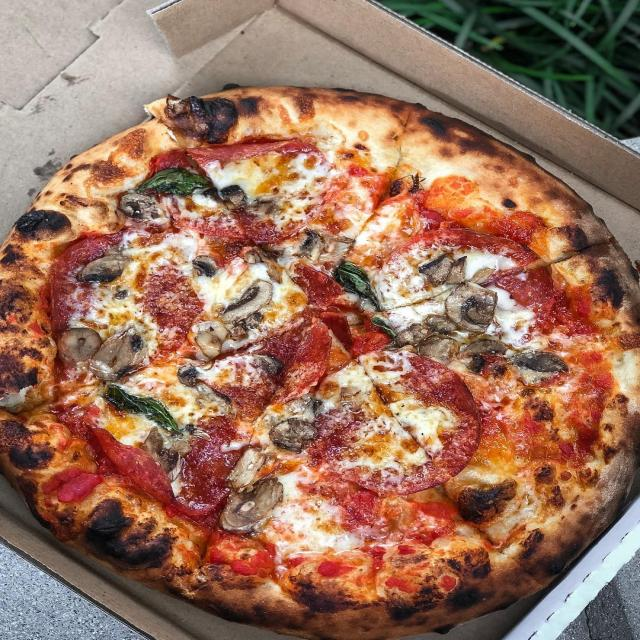mushrooms: (218, 477, 286, 531), (446, 282, 500, 332), (94, 331, 144, 379), (221, 280, 274, 324), (79, 255, 133, 286), (60, 329, 100, 363), (270, 421, 318, 445), (514, 352, 566, 374), (417, 337, 458, 364), (420, 252, 452, 284), (196, 326, 226, 360), (121, 194, 153, 218), (463, 340, 510, 355), (220, 185, 250, 207), (446, 258, 468, 283), (398, 324, 427, 342), (428, 316, 460, 332), (304, 231, 320, 260), (194, 255, 215, 275), (180, 365, 197, 385)
pepperoni: (314, 353, 481, 492), (158, 143, 333, 234), (202, 322, 332, 402), (88, 431, 180, 501), (176, 419, 240, 511), (295, 264, 342, 307)
pizza: (0, 87, 640, 640)
